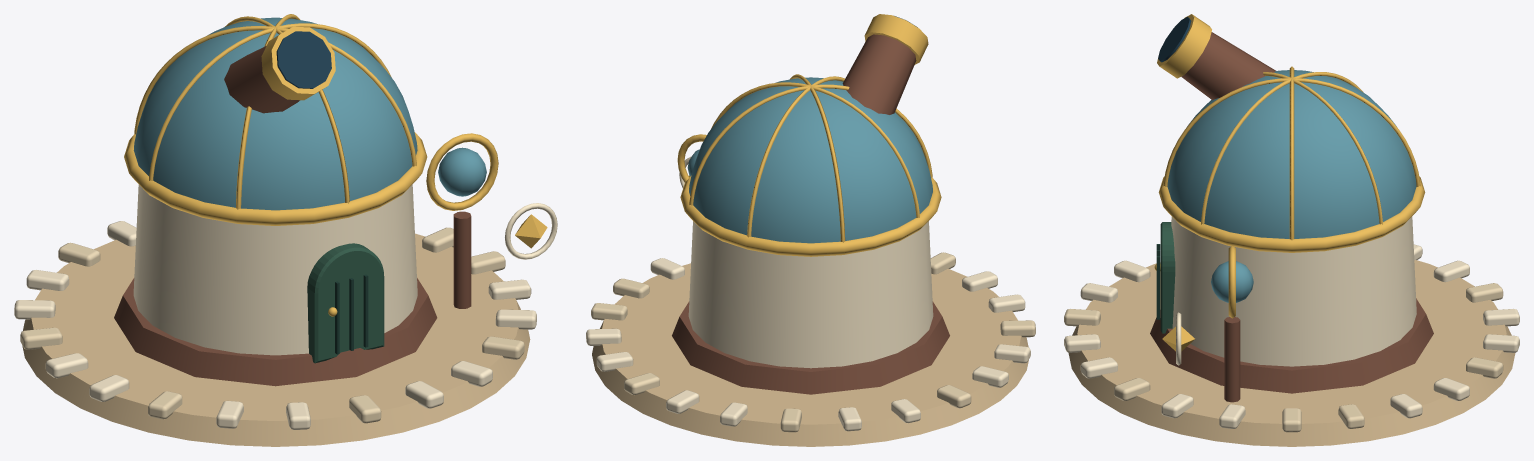
The model's file is observatory.glb.
The picture shows the model from 3 angles, left to right: view 1: azimuth 30°, elevation 25°; view 2: azimuth 150°, elevation 25°; view 3: azimuth 270°, elevation 25°; orthographic projection. The views are drawn at different scales.
Parts seen in each view (by area): view 1: building-observatory, landmark-observatory, treasure-observatory; view 2: building-observatory, landmark-observatory; view 3: building-observatory, landmark-observatory, treasure-observatory.
Part boxes in pixels (left/top/right/bottom): building-observatory: left=114, top=14, right=498, bottom=386; landmark-observatory: left=14, top=221, right=536, bottom=446; treasure-observatory: left=505, top=203, right=557, bottom=259; building-observatory: left=672, top=14, right=949, bottom=394; landmark-observatory: left=586, top=252, right=1035, bottom=446; building-observatory: left=1150, top=14, right=1433, bottom=402; landmark-observatory: left=1064, top=244, right=1519, bottom=446; treasure-observatory: left=1162, top=312, right=1194, bottom=365.
Bounding box in the file's own units: 1.54 × 1.18 × 1.53.
